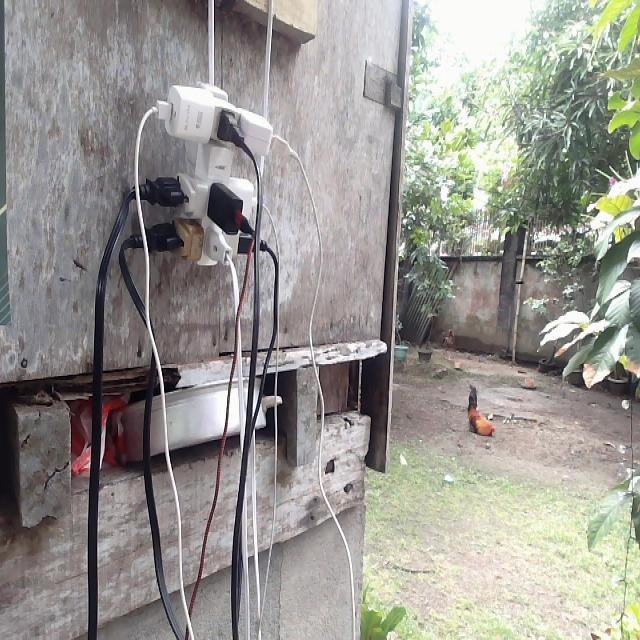-: (135, 73, 283, 270)
